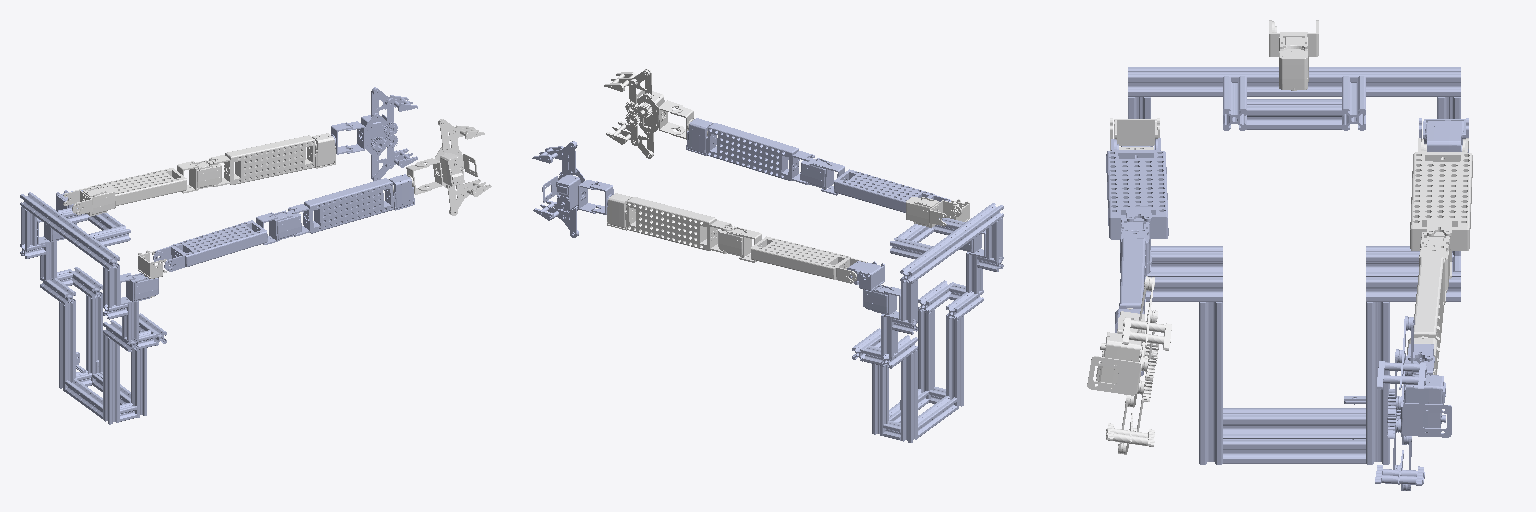
URDF robot description (mark_1):
<?xml version="1.0" encoding="utf-8"?>
<!-- This URDF was automatically created by SolidWorks to URDF Exporter! Originally created by [author] ([email redacted]) 
     Commit Version: 1.6.0-4-g7f85cfe  Build Version: 1.6.7995.38578
     For more information, please see http://wiki.ros.org/sw_urdf_exporter -->
<robot
  name="mark_1">
  <link
    name="base_link">
    <inertial>
      <origin
        xyz="-0.0145534440387505 -0.000194962536281741 0.166797966297387"
        rpy="0 0 0" />
      <mass
        value="0.45300834254569" />
      <inertia
        ixx="0.000649039064047301"
        ixy="2.091334364037E-07"
        ixz="2.71984437268521E-08"
        iyy="0.000262489787577035"
        iyz="-9.75821657075913E-08"
        izz="0.000457894086631493" />
    </inertial>
    <visual>
      <origin
        xyz="0 0 0"
        rpy="0 0 0" />
      <geometry>
        <mesh
          filename="package://mark_1/meshes/base_link.STL" />
      </geometry>
      <material
        name="">
        <color
          rgba="0.792156862745098 0.819607843137255 0.933333333333333 1" />
      </material>
    </visual>
    <collision>
      <origin
        xyz="0 0 0"
        rpy="0 0 0" />
      <geometry>
        <mesh
          filename="package://mark_1/meshes/base_link.STL" />
      </geometry>
    </collision>
  </link>
  <link
    name="right_shoulder_link">
    <inertial>
      <origin
        xyz="-0.00226940414982798 0.000197605198601195 0.0070273931795623"
        rpy="0 0 0" />
      <mass
        value="0.00776072596587416" />
      <inertia
        ixx="2.08656859916159E-06"
        ixy="1.92166683726886E-08"
        ixz="-2.6016315266565E-10"
        iyy="7.44932189618317E-07"
        iyz="-2.40733879720067E-12"
        izz="1.96444856027833E-06" />
    </inertial>
    <visual>
      <origin
        xyz="0 0 0"
        rpy="0 0 0" />
      <geometry>
        <mesh
          filename="package://mark_1/meshes/right_shoulder_link.STL" />
      </geometry>
      <material
        name="">
        <color
          rgba="0.96078431372549 0.96078431372549 0.964705882352941 1" />
      </material>
    </visual>
    <collision>
      <origin
        xyz="0 0 0"
        rpy="0 0 0" />
      <geometry>
        <mesh
          filename="package://mark_1/meshes/right_shoulder_link.STL" />
      </geometry>
    </collision>
  </link>
  <joint
    name="right_shoulder_link"
    type="continuous">
    <origin
      xyz="0.00836954205747536 -0.133606477325328 0.26465"
      rpy="0 0 0" />
    <parent
      link="base_link" />
    <child
      link="right_shoulder_link" />
    <axis
      xyz="-0.0143182523264597 0.999897488570861 0" />
    <limit
      lower="-1.57"
      upper="1.57"
      effort="0.2"
      velocity="0.5" />
    <dynamics
      damping="0.1"
      friction="0.1" />
  </joint>
  <link
    name="right_deltoid_link">
    <inertial>
      <origin
        xyz="0.128849589151912 0.0195646356207245 0.000593631418684515"
        rpy="0 0 0" />
      <mass
        value="0.153352889757505" />
      <inertia
        ixx="3.28699113725282E-05"
        ixy="-2.2451947361191E-06"
        ixz="1.33745075987347E-08"
        iyy="0.000195379842766236"
        iyz="3.4238347332715E-10"
        izz="0.000216767932708973" />
    </inertial>
    <visual>
      <origin
        xyz="0 0 0"
        rpy="0 0 0" />
      <geometry>
        <mesh
          filename="package://mark_1/meshes/right_deltoid_link.STL" />
      </geometry>
      <material
        name="">
        <color
          rgba="0.792156862745098 0.819607843137255 0.933333333333333 1" />
      </material>
    </visual>
    <collision>
      <origin
        xyz="0 0 0"
        rpy="0 0 0" />
      <geometry>
        <mesh
          filename="package://mark_1/meshes/right_deltoid_link.STL" />
      </geometry>
    </collision>
  </link>
  <joint
    name="right_deloid_joint"
    type="continuous">
    <origin
      xyz="0.0260319094907936 -0.0181291282492522 0.0157130544878568"
      rpy="0.000772947059357683 -0.0538473113005892 -4.16010184655721E-05" />
    <parent
      link="right_shoulder_link" />
    <child
      link="right_deltoid_link" />
    <axis
      xyz="-0.0143390356701151 0.999897190743154 0" />
  </joint>
  <link
    name="right_forearm_link">
    <inertial>
      <origin
        xyz="0.122134336053526 0.0125693022043887 -0.000678845915413492"
        rpy="0 0 0" />
      <mass
        value="0.14814148096472" />
      <inertia
        ixx="3.68661962093057E-05"
        ixy="8.23700139549119E-06"
        ixz="-1.01061034843873E-09"
        iyy="0.000189487070117688"
        iyz="-6.01673996661595E-09"
        izz="0.000215257194207411" />
    </inertial>
    <visual>
      <origin
        xyz="0 0 0"
        rpy="0 0 0" />
      <geometry>
        <mesh
          filename="package://mark_1/meshes/right_forearm_link.STL" />
      </geometry>
      <material
        name="">
        <color
          rgba="0.792156862745098 0.819607843137255 0.933333333333333 1" />
      </material>
    </visual>
    <collision>
      <origin
        xyz="0 0 0"
        rpy="0 0 0" />
      <geometry>
        <mesh
          filename="package://mark_1/meshes/right_forearm_link.STL" />
      </geometry>
    </collision>
  </link>
  <joint
    name="right_forearm_joint"
    type="continuous">
    <origin
      xyz="0.23445123955499 0.0180119617798703 0.0197905658655673"
      rpy="-1.57079632678319 0.0538534786393583 -0.0151291696345527" />
    <parent
      link="right_deltoid_link" />
    <child
      link="right_forearm_link" />
    <axis
      xyz="0.0538274515179134 0.998550251846689 0" />
  </joint>
  <link
    name="right_wrist_link">
    <inertial>
      <origin
        xyz="0.0729999358896654 -0.000374534250136657 0.00260190098159474"
        rpy="0 0 0" />
      <mass
        value="0.0819274846186163" />
      <inertia
        ixx="1.25837683608781E-05"
        ixy="4.68632542953194E-07"
        ixz="-2.24569336152737E-08"
        iyy="1.66271865379447E-05"
        iyz="-1.28377562701556E-06"
        izz="8.20757200785382E-06" />
    </inertial>
    <visual>
      <origin
        xyz="0 0 0"
        rpy="0 0 0" />
      <geometry>
        <mesh
          filename="package://mark_1/meshes/right_wrist_link.STL" />
      </geometry>
      <material
        name="">
        <color
          rgba="0.96078431372549 0.96078431372549 0.964705882352941 1" />
      </material>
    </visual>
    <collision>
      <origin
        xyz="0 0 0"
        rpy="0 0 0" />
      <geometry>
        <mesh
          filename="package://mark_1/meshes/right_wrist_link.STL" />
      </geometry>
    </collision>
  </link>
  <joint
    name="right_wrist_joint"
    type="fixed">
    <origin
      xyz="0.213139944643721 -0.00499437028651983 -0.00148091509216837"
      rpy="1.57252517997492 -0.0150502420287462 -0.0399168424621424" />
    <parent
      link="right_forearm_link" />
    <child
      link="right_wrist_link" />
    <axis
      xyz="0 0 0" />
  </joint>
  <link
    name="left_shoulder_link">
    <inertial>
      <origin
        xyz="0.0100820121963621 3.21565501376908E-05 0.0140763800097504"
        rpy="0 0 0" />
      <mass
        value="0.0416683528776036" />
      <inertia
        ixx="4.14123051689716E-06"
        ixy="5.27090995006742E-08"
        ixz="-6.84021931497344E-09"
        iyy="8.06617329610891E-06"
        iyz="-3.53546700986392E-10"
        izz="7.96379455038323E-06" />
    </inertial>
    <visual>
      <origin
        xyz="0 0 0"
        rpy="0 0 0" />
      <geometry>
        <mesh
          filename="package://mark_1/meshes/left_shoulder_link.STL" />
      </geometry>
      <material
        name="">
        <color
          rgba="0.792156862745098 0.819607843137255 0.933333333333333 1" />
      </material>
    </visual>
    <collision>
      <origin
        xyz="0 0 0"
        rpy="0 0 0" />
      <geometry>
        <mesh
          filename="package://mark_1/meshes/left_shoulder_link.STL" />
      </geometry>
    </collision>
  </link>
  <joint
    name="left_shoulder_joint"
    type="continuous">
    <origin
      xyz="0.00836954205747529 0.125393522674672 0.26465"
      rpy="0 0 0" />
    <parent
      link="base_link" />
    <child
      link="left_shoulder_link" />
    <axis
      xyz="0 0 -1" />
  </joint>
  <link
    name="left_deltoid_link">
    <inertial>
      <origin
        xyz="0.124024733494955 0.0156228510438641 0.000558423480873482"
        rpy="0 0 0" />
      <mass
        value="0.153352891665706" />
      <inertia
        ixx="3.2888200421224E-05"
        ixy="2.83065406830542E-06"
        ixz="1.33792715731048E-08"
        iyy="0.000195361559107541"
        iyz="-7.51714169902756E-11"
        izz="0.000216767937999963" />
    </inertial>
    <visual>
      <origin
        xyz="0 0 0"
        rpy="0 0 0" />
      <geometry>
        <mesh
          filename="package://mark_1/meshes/left_deltoid_link.STL" />
      </geometry>
      <material
        name="">
        <color
          rgba="0.96078431372549 0.96078431372549 0.964705882352941 1" />
      </material>
    </visual>
    <collision>
      <origin
        xyz="0 0 0"
        rpy="0 0 0" />
      <geometry>
        <mesh
          filename="package://mark_1/meshes/left_deltoid_link.STL" />
      </geometry>
    </collision>
  </link>
  <joint
    name="left_deltoid_joint"
    type="continuous">
    <origin
      xyz="0.0303911380004462 -0.0190159079205942 0.0157130544878571"
      rpy="0.000150992773042568 0.00893980096423907 0" />
    <parent
      link="left_shoulder_link" />
    <child
      link="left_deltoid_link" />
    <axis
      xyz="0.016887124525697 0.999857402345581 0" />
  </joint>
  <link
    name="left_forearm_link">
    <inertial>
      <origin
        xyz="0.120246108073193 0.0201297112705999 -0.000692209828605683"
        rpy="0 0 0" />
      <mass
        value="0.15003100677213" />
      <inertia
        ixx="3.6493969163792E-05"
        ixy="-1.38773095772672E-06"
        ixz="-6.30423239864033E-10"
        iyy="0.000189991785391294"
        iyz="-6.068503799755E-09"
        izz="0.00021530238152489" />
    </inertial>
    <visual>
      <origin
        xyz="0 0 0"
        rpy="0 0 0" />
      <geometry>
        <mesh
          filename="package://mark_1/meshes/left_forearm_link.STL" />
      </geometry>
      <material
        name="">
        <color
          rgba="0.96078431372549 0.96078431372549 0.964705882352941 1" />
      </material>
    </visual>
    <collision>
      <origin
        xyz="0 0 0"
        rpy="0 0 0" />
      <geometry>
        <mesh
          filename="package://mark_1/meshes/left_forearm_link.STL" />
      </geometry>
    </collision>
  </link>
  <joint
    name="left_forearm_joint"
    type="continuous">
    <origin
      xyz="0.229522625960475 0.0107738621384627 0.0197554359440348"
      rpy="-1.57079632679212 -0.00894846270497469 -0.0440035216278062" />
    <parent
      link="left_deltoid_link" />
    <child
      link="left_forearm_link" />
    <axis
      xyz="-0.00894834328925879 0.999959962774699 0" />
  </joint>
  <link
    name="left_wrist_link">
    <inertial>
      <origin
        xyz="0.0736137145660912 -0.00518259162612339 -0.000617542616893119"
        rpy="0 0 0" />
      <mass
        value="0.081361435624521" />
      <inertia
        ixx="1.25069415058608E-05"
        ixy="-9.49132113578202E-08"
        ixz="6.69815436451905E-08"
        iyy="1.6850744398768E-05"
        iyz="-1.63218337227666E-07"
        izz="8.00570986524841E-06" />
    </inertial>
    <visual>
      <origin
        xyz="0 0 0"
        rpy="0 0 0" />
      <geometry>
        <mesh
          filename="package://mark_1/meshes/left_wrist_link.STL" />
      </geometry>
      <material
        name="">
        <color
          rgba="0.792156862745098 0.819607843137255 0.933333333333333 1" />
      </material>
    </visual>
    <collision>
      <origin
        xyz="0 0 0"
        rpy="0 0 0" />
      <geometry>
        <mesh
          filename="package://mark_1/meshes/left_wrist_link.STL" />
      </geometry>
    </collision>
  </link>
  <joint
    name="left_wrist_joint"
    type="continuous">
    <origin
      xyz="0.213033328995519 0.00839228163252015 -0.00149738707278493"
      rpy="1.57252666288078 -0.0440527025150813 0.0228349161797588" />
    <parent
      link="left_forearm_link" />
    <child
      link="left_wrist_link" />
    <axis
      xyz="-0.998933513376794 0.0440101507770613 -0.0139621803911481" />
  </joint>
  <link
    name="neck_link">
    <inertial>
      <origin
        xyz="0.0449917227963332 0.0183036854439724 -0.00401375821834365"
        rpy="0 0 0" />
      <mass
        value="0.0411023044246906" />
      <inertia
        ixx="3.98709197086215E-06"
        ixy="-1.30896849077331E-10"
        ixz="-5.55903517254238E-08"
        iyy="7.03835674550507E-06"
        iyz="1.8362131369825E-08"
        izz="9.09062038282917E-06" />
    </inertial>
    <visual>
      <origin
        xyz="0 0 0"
        rpy="0 0 0" />
      <geometry>
        <mesh
          filename="package://mark_1/meshes/neck_link.STL" />
      </geometry>
      <material
        name="">
        <color
          rgba="0.96078431372549 0.96078431372549 0.964705882352941 1" />
      </material>
    </visual>
    <collision>
      <origin
        xyz="0 0 0"
        rpy="0 0 0" />
      <geometry>
        <mesh
          filename="package://mark_1/meshes/neck_link.STL" />
      </geometry>
    </collision>
  </link>
  <joint
    name="neck_joint"
    type="continuous">
    <origin
      xyz="-0.056731944102393 -0.0191928309605353 0.34709664162935"
      rpy="0.00872664625997133 0 0.000609497858157523" />
    <parent
      link="base_link" />
    <child
      link="neck_link" />
    <axis
      xyz="0 0.999961923064171 -0.00872653549837362" />
  </joint>
  <link
    name="head_link">
    <inertial>
      <origin
        xyz="0.106754961718805 0.0212170359121892 0.00459046928570417"
        rpy="0 0 0" />
      <mass
        value="0.0502731285182171" />
      <inertia
        ixx="3.59991946514163E-05"
        ixy="1.63631731355724E-06"
        ixz="-1.89758244731218E-07"
        iyy="1.18232226690597E-05"
        iyz="1.39569400099957E-07"
        izz="2.76092624697605E-05" />
    </inertial>
    <visual>
      <origin
        xyz="0 0 0"
        rpy="0 0 0" />
      <geometry>
        <mesh
          filename="package://mark_1/meshes/head_link.STL" />
      </geometry>
      <material
        name="">
        <color
          rgba="0.96078431372549 0.96078431372549 0.964705882352941 1" />
      </material>
    </visual>
    <collision>
      <origin
        xyz="0 0 0"
        rpy="0 0 0" />
      <geometry>
        <mesh
          filename="package://mark_1/meshes/head_link.STL" />
      </geometry>
    </collision>
  </link>
  <joint
    name="head_joint"
    type="continuous">
    <origin
      xyz="0 0 0"
      rpy="0 0 0" />
    <parent
      link="neck_link" />
    <child
      link="head_link" />
    <axis
      xyz="0.0135524341041437 -0.00872573406687014 -0.999870088108874" />
  </joint>
</robot>

--- What the picture shows (computed from the rendered views, not written in the file) ---
3 views of the same robot in one strip: view 1: azimuth 30°, elevation 25°; view 2: azimuth 150°, elevation 25°; view 3: azimuth 270°, elevation 25° (orthographic).
Robot: mark_1 — 11 links, 10 joints (9 continuous, 1 fixed); root link base_link; default pose: every joint at zero.
Visible links, largest first — view 1: base_link, left_forearm_link, right_forearm_link, right_deltoid_link, left_wrist_link, right_wrist_link, left_deltoid_link, neck_link; view 2: base_link, right_forearm_link, left_forearm_link, left_deltoid_link, right_wrist_link, right_deltoid_link, left_wrist_link, neck_link, left_shoulder_link; view 3: base_link, left_wrist_link, left_deltoid_link, right_wrist_link, right_deltoid_link, left_forearm_link, neck_link, right_forearm_link, left_shoulder_link, right_shoulder_link.
Link boxes in pixels (<box>): base_link: <box>20,192,166,424</box>; left_forearm_link: <box>207,133,335,186</box>; right_forearm_link: <box>288,174,414,236</box>; right_deltoid_link: <box>153,210,301,271</box>; left_wrist_link: <box>331,87,417,180</box>; right_wrist_link: <box>393,119,491,215</box>; left_deltoid_link: <box>75,160,221,205</box>; neck_link: <box>63,186,115,216</box>; base_link: <box>852,203,1003,442</box>; right_forearm_link: <box>686,118,814,184</box>; left_forearm_link: <box>607,193,732,253</box>; left_deltoid_link: <box>718,226,866,283</box>; right_wrist_link: <box>604,69,707,158</box>; right_deltoid_link: <box>800,157,950,212</box>; left_wrist_link: <box>532,141,613,237</box>; neck_link: <box>906,197,961,227</box>; left_shoulder_link: <box>847,261,884,309</box>; base_link: <box>1121,67,1460,464</box>; left_wrist_link: <box>1375,316,1451,490</box>; left_deltoid_link: <box>1410,138,1472,290</box>; right_wrist_link: <box>1087,276,1171,454</box>; right_deltoid_link: <box>1106,138,1168,273</box>; left_forearm_link: <box>1407,245,1446,374</box>; neck_link: <box>1269,20,1318,90</box>; right_forearm_link: <box>1115,228,1147,375</box>; left_shoulder_link: <box>1419,118,1468,152</box>; right_shoulder_link: <box>1110,118,1159,150</box>.
Bounding box of the posed robot: 0.6878 × 0.3234 × 0.4128 m (x, y, z).
10 mesh visuals loaded from 11 distinct referenced files (10 binary STL); not drawn: 1 (reference not matched to a file when rendering).
